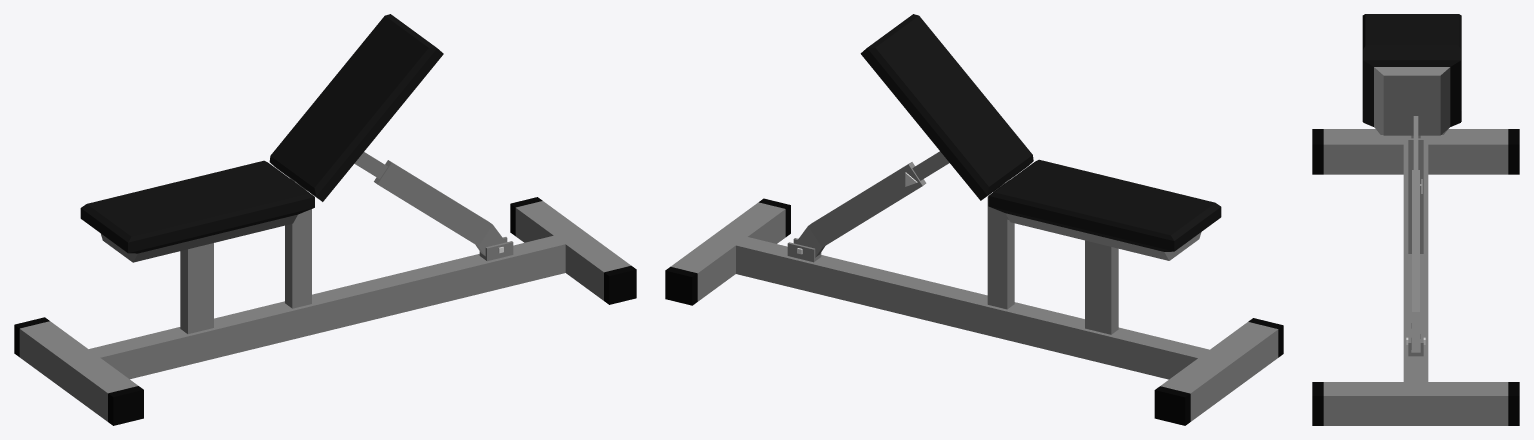
The model's file is GymBench.003.fbx.
3 renders of one model, left to right at view 1: azimuth 30°, elevation 25°; view 2: azimuth 150°, elevation 25°; view 3: azimuth 270°, elevation 25°, orthographic. The views are drawn at different scales.
Parts seen in each view (by area): view 1: GymBench.003; view 2: GymBench.003; view 3: GymBench.003.
Boxes of the visible parts, bbox=[...] form: GymBench.003: bbox=[14, 14, 636, 425]; GymBench.003: bbox=[665, 14, 1283, 425]; GymBench.003: bbox=[1312, 14, 1519, 425].
Size of the model in its own units: 171 by 86.09 by 56.07.
